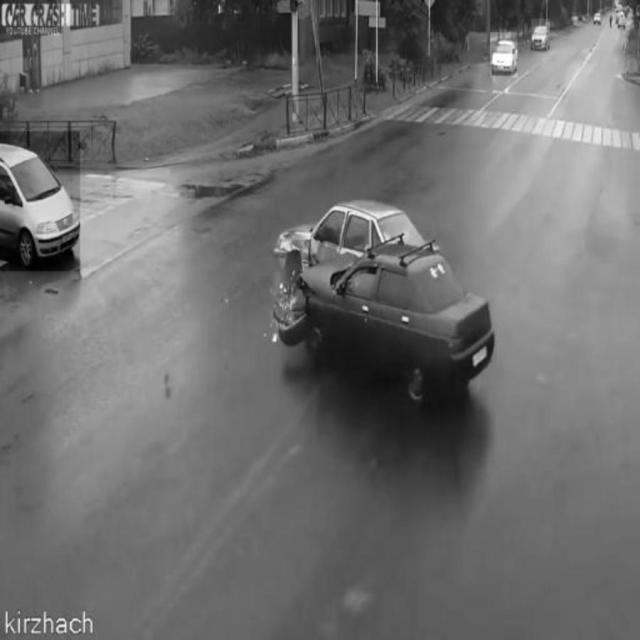accident: (273, 187, 499, 394)
vehicle: (0, 131, 80, 271), (491, 33, 518, 78), (531, 19, 549, 53)
